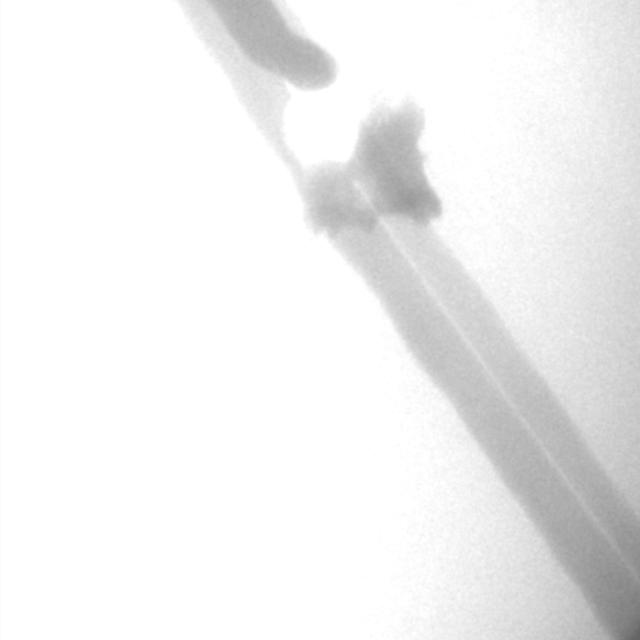broken arc: (217, 16, 635, 573)
